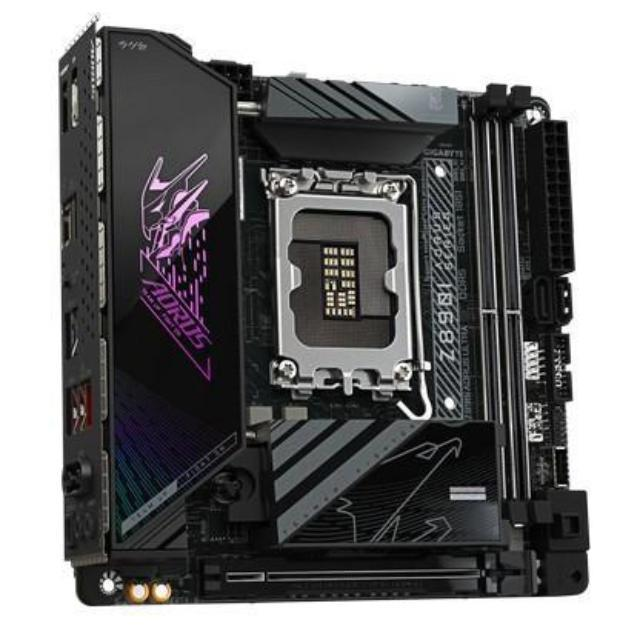Mainboard: (44, 6, 602, 623)
